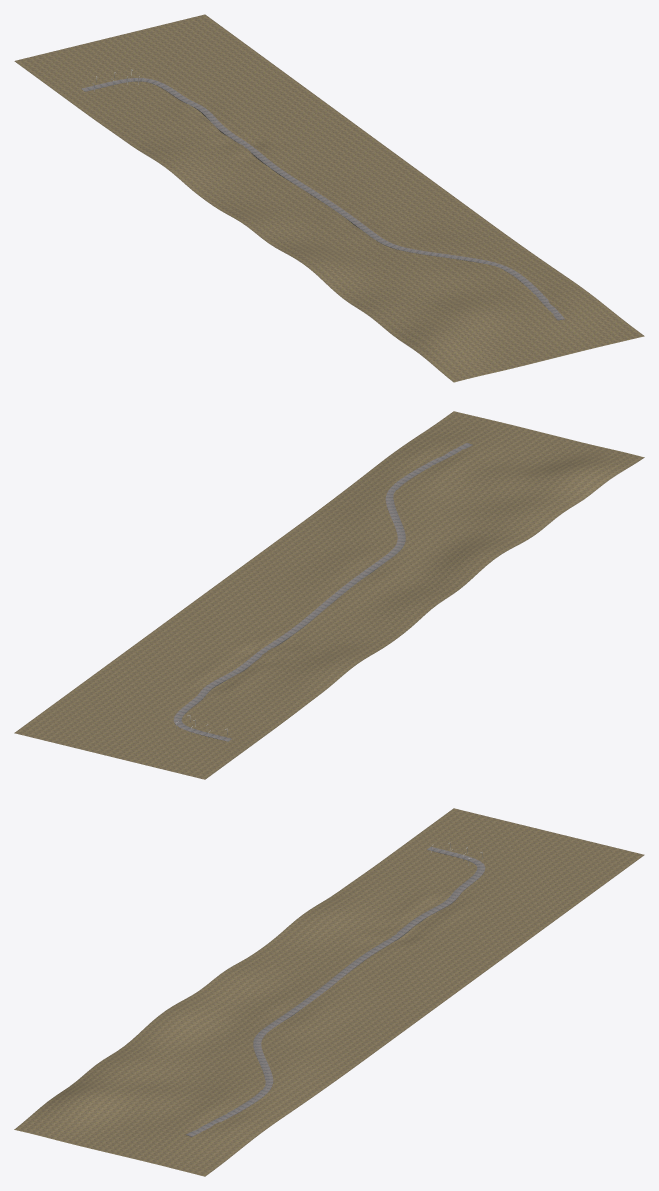
Rendered from map1.gltf.
3 views of the same model, one above another, from view 1: azimuth 30°, elevation 25°; view 2: azimuth 150°, elevation 25°; view 3: azimuth 330°, elevation 25° (orthographic).
Parts seen in each view (by area): view 1: Terrain, Road; view 2: Terrain, Road; view 3: Terrain, Road.
Part boxes in pixels (x1,y1,x2,y2): Terrain: [14, 14, 644, 382]; Road: [81, 78, 564, 320]; Terrain: [14, 411, 644, 779]; Road: [173, 443, 472, 741]; Terrain: [14, 808, 644, 1176]; Road: [186, 846, 485, 1136].
Size of the model in its own units: 316 by 19.66 by 1259.
2 materials, 2 textured.
